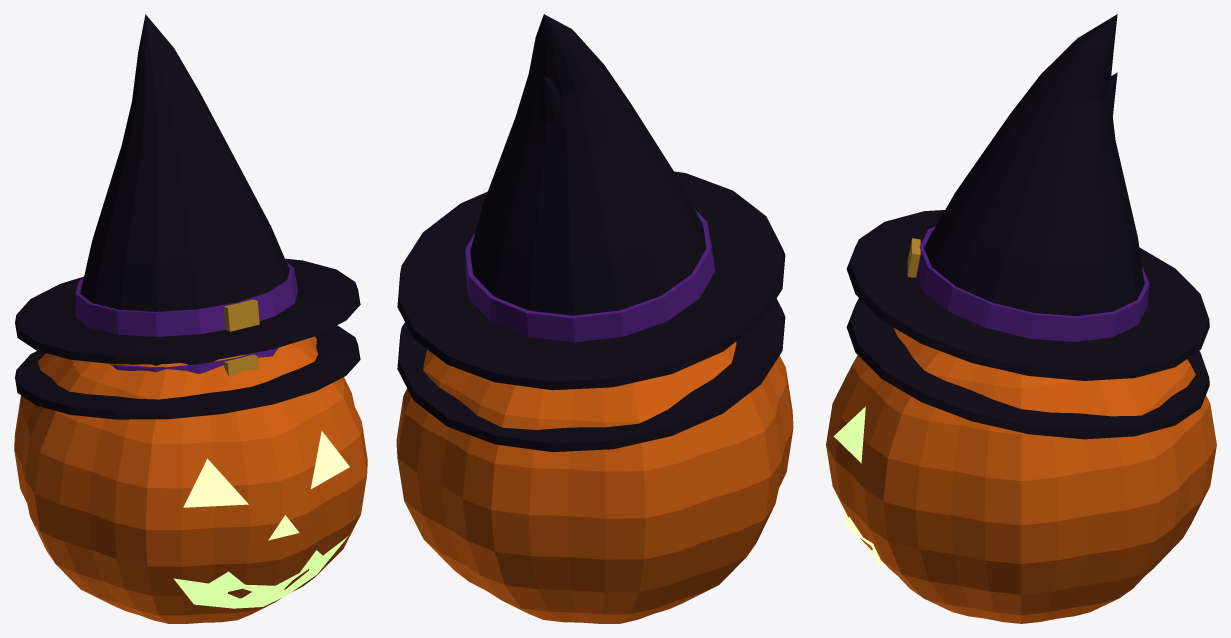
File: coach_accessories.glb
3 renders of one model, left to right at view 1: azimuth 30°, elevation 25°; view 2: azimuth 150°, elevation 25°; view 3: azimuth 270°, elevation 25°, orthographic. The views are drawn at different scales.
Parts seen in each view (by area): view 1: accessory_pumpkin_head, accessory_witch_hat_on_pumpkin, accessory_witch_hat; view 2: accessory_witch_hat_on_pumpkin, accessory_pumpkin_head, accessory_witch_hat; view 3: accessory_pumpkin_head, accessory_witch_hat_on_pumpkin, accessory_witch_hat.
Part boxes in pixels (left/top/right/bottom): accessory_pumpkin_head: left=14, top=336, right=367, bottom=623; accessory_witch_hat_on_pumpkin: left=15, top=14, right=360, bottom=364; accessory_witch_hat: left=15, top=325, right=360, bottom=419; accessory_witch_hat_on_pumpkin: left=397, top=14, right=785, bottom=390; accessory_pumpkin_head: left=396, top=342, right=793, bottom=623; accessory_witch_hat: left=397, top=76, right=785, bottom=452; accessory_pumpkin_head: left=822, top=328, right=1216, bottom=623; accessory_witch_hat_on_pumpkin: left=846, top=14, right=1209, bottom=380; accessory_witch_hat: left=846, top=72, right=1209, bottom=439.
Size of the model in its own units: 0.3562 by 0.6083 by 0.3683.
